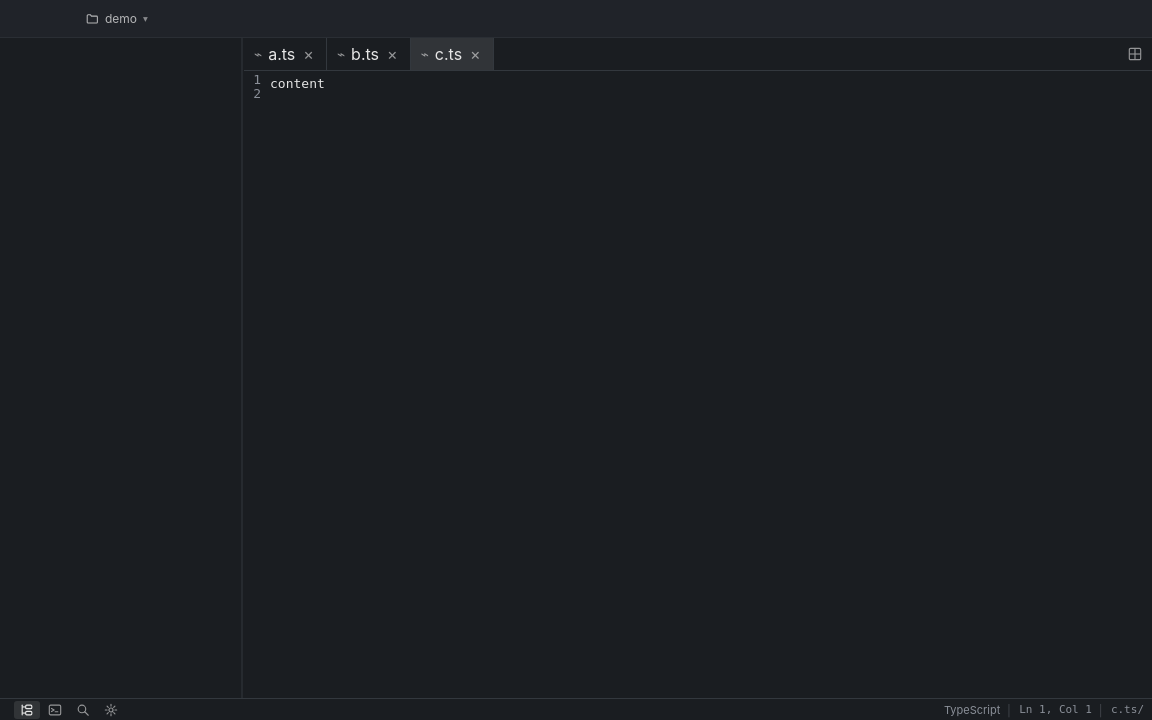
Test: App editor split panes (issue #158) › scenario 2: splitting a pane with multiple tabs open takes only the active tab into the new pane
Click the button named "Split editor" at (1135, 54), box [1122,43,1148,65]
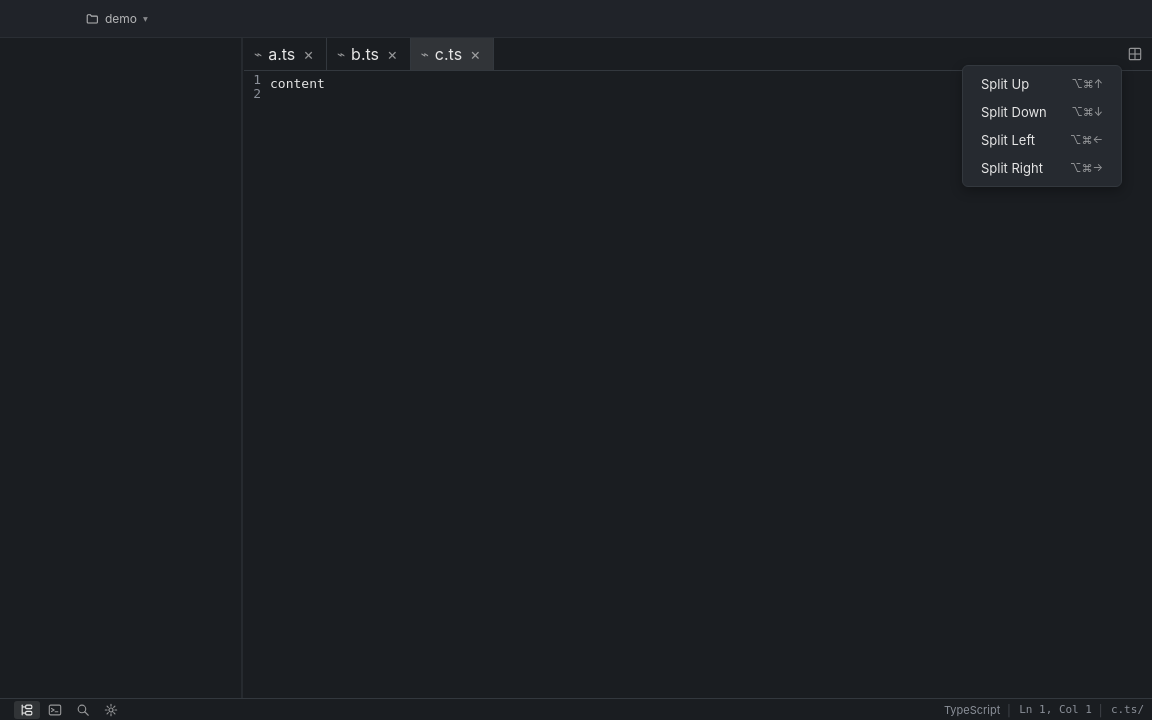
Click the menu item "Split Right ⌥⌘→" at (1042, 168), box [967,154,1117,182]
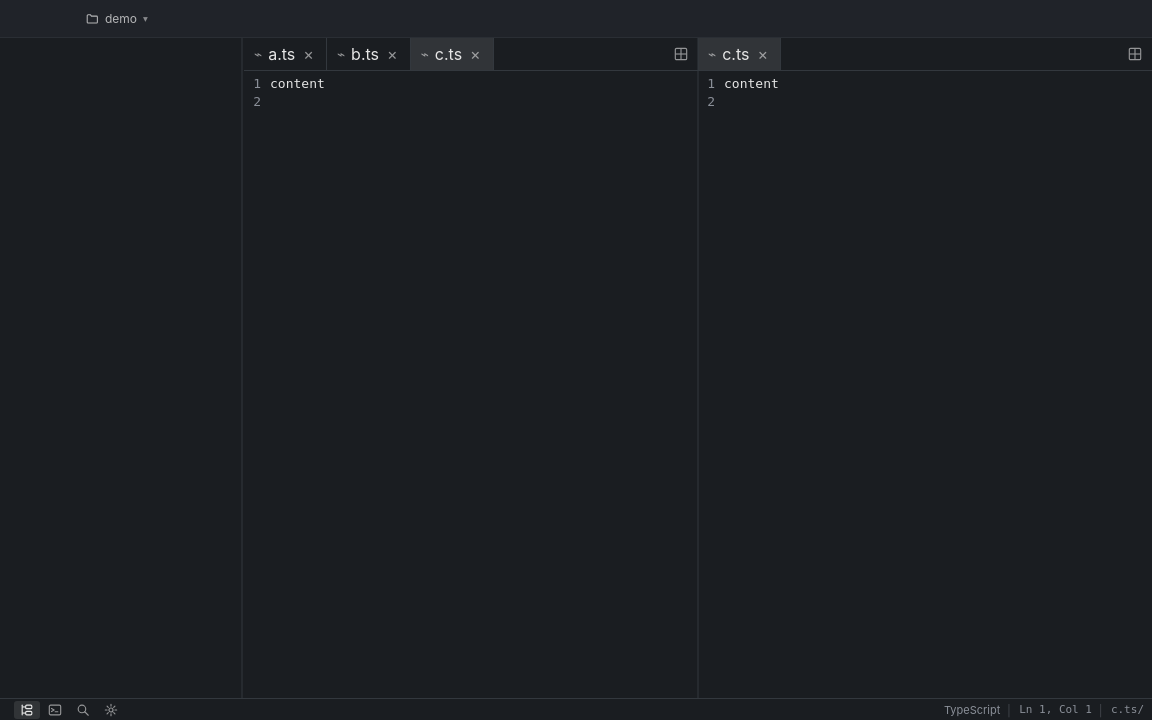
Expected: the text with class "tab-name" next to "b.ts" reads "c.ts", [435,44,462,64]
Now the number of elements with class "editor-panel" is 2, box [244,38,698,698]; [698,38,1151,698]
